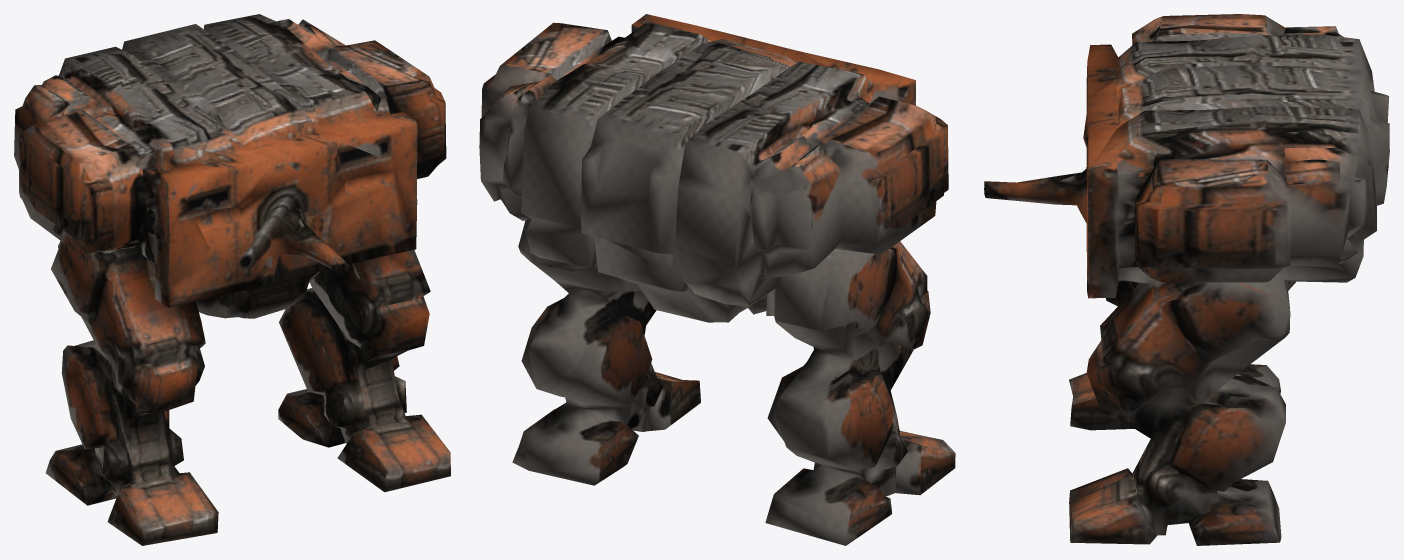
The model's file is mantlet_lod2.glb.
3 renders of one model, left to right at view 1: azimuth 30°, elevation 25°; view 2: azimuth 150°, elevation 25°; view 3: azimuth 270°, elevation 25°, orthographic. The views are drawn at different scales.
Parts seen in each view (by area): view 1: geometry_0; view 2: geometry_0; view 3: geometry_0.
Part boxes in pixels (box(x1,y1,x2,y2)): geometry_0: box(14, 14, 450, 545); geometry_0: box(479, 14, 955, 545); geometry_0: box(984, 14, 1389, 545).
Bounding box in the file's own units: 1.99 × 1.97 × 1.87.
Materials: 1 (1 with a texture image).
